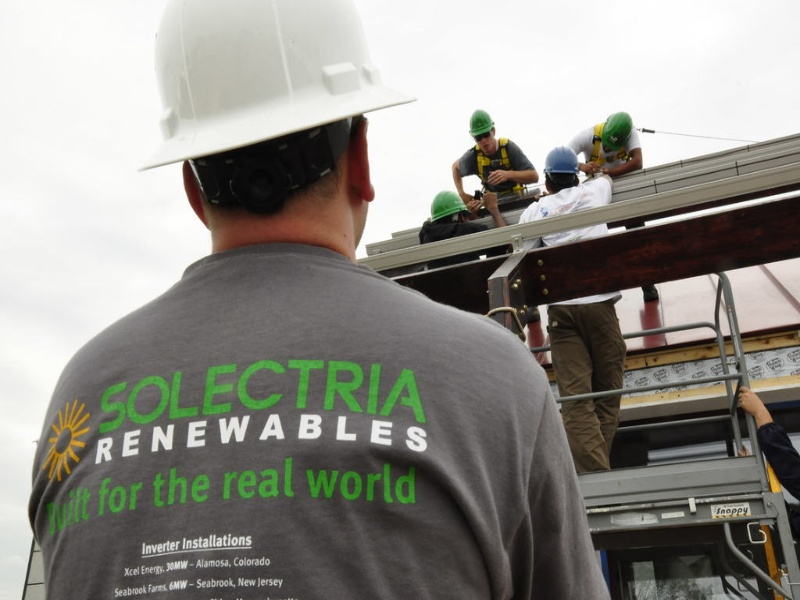baret: (137, 3, 414, 170), (467, 108, 493, 135)
